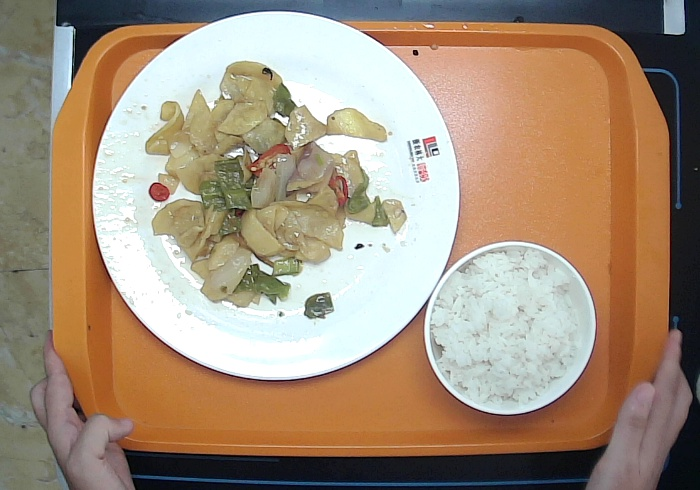ZNLD-Da_Yuan_Pan: (90, 8, 461, 381)
ZNLD-Fan_Wan: (422, 239, 597, 416)
